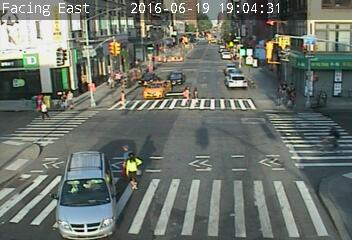neg: (215, 54, 239, 86), (313, 23, 337, 55), (181, 55, 204, 85), (273, 27, 292, 52), (174, 142, 193, 167), (248, 37, 263, 57), (141, 63, 153, 78)
pos: (119, 154, 147, 191), (282, 80, 302, 107), (178, 83, 194, 104), (33, 98, 48, 118), (115, 86, 130, 106), (64, 88, 78, 107)
